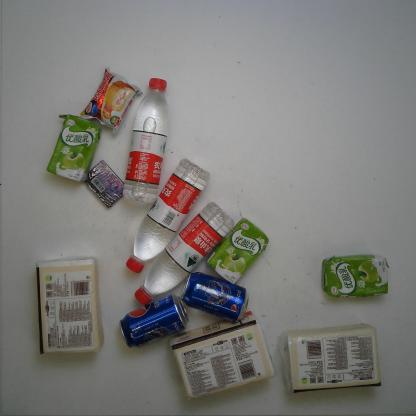Dessert: (80, 66, 143, 136)
Drink: (134, 200, 235, 306), (124, 157, 210, 273), (121, 78, 170, 202), (119, 294, 191, 349), (180, 271, 251, 324)
Gum: (84, 160, 126, 211)
Milk: (207, 216, 271, 286), (44, 114, 102, 184), (319, 251, 390, 299)
Tissue: (168, 309, 276, 400), (34, 256, 106, 355), (284, 322, 381, 394)
